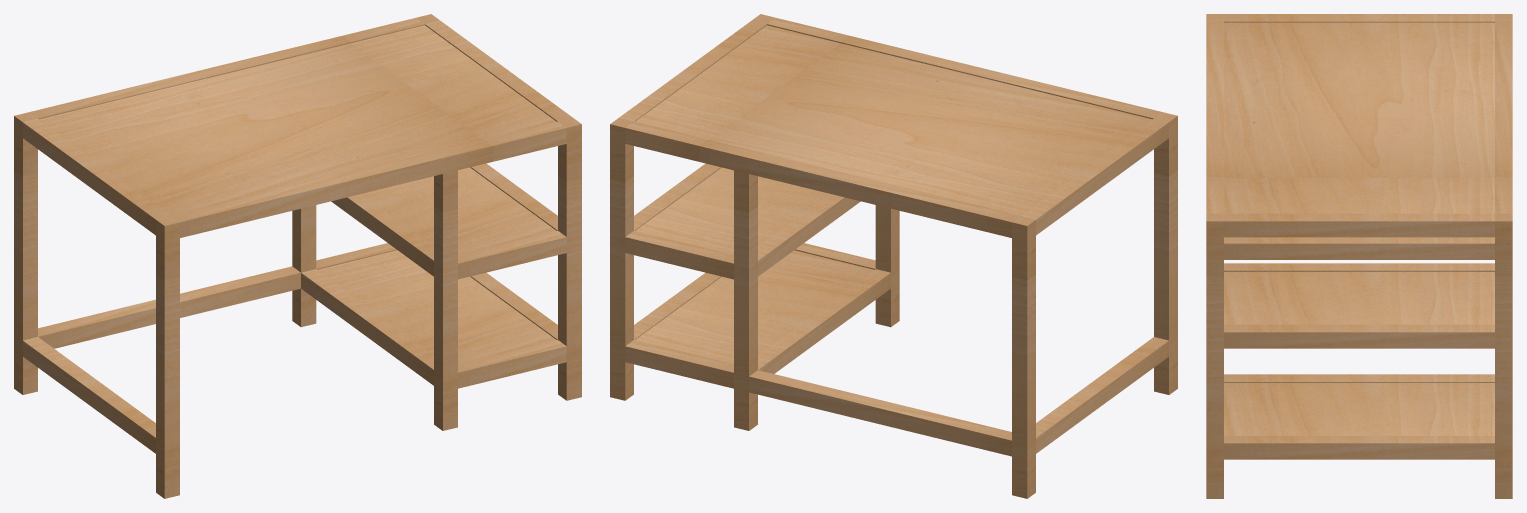
3 views of the same model, side by side, from view 1: azimuth 30°, elevation 25°; view 2: azimuth 150°, elevation 25°; view 3: azimuth 270°, elevation 25° (orthographic).
Parts seen in each view (by area): view 1: desk_top, desk_shelf (×2), desk_beam_x_f, desk_shelf_y_l (×2), desk_leg_f_l, desk_leg_f_r, desk_leg_s_f, desk_leg_b_l, desk_footrest_x, desk_shelf_x_f (×2), desk_beam_y_l, desk_footrest_y (+5 smaller); view 2: desk_top, desk_shelf (×2), desk_beam_x_b, desk_leg_b_l, desk_shelf_y_l (×2), desk_footrest_x, desk_leg_b_r, desk_leg_f_l, desk_leg_s_b, desk_shelf_x_b (×2), desk_beam_y_l, desk_footrest_y (+5 smaller); view 3: desk_top, desk_shelf (×2), desk_shelf_y_r (×2), desk_beam_y_r, desk_footrest_y, desk_leg_b_r, desk_leg_f_r, desk_shelf_y_l (×2), desk_beam_x_b, desk_beam_x_f, desk_beam_y_l.
Part boxes in pixels (x1,y1,x2,y2): desk_top: (39, 25, 556, 215); desk_shelf (×2): (318, 167, 556, 363); desk_beam_x_f: (171, 121, 566, 237); desk_shelf_y_l (×2): (301, 193, 433, 385); desk_leg_f_l: (156, 216, 179, 498); desk_leg_f_r: (558, 118, 581, 400); desk_leg_s_f: (434, 170, 457, 430); desk_leg_b_l: (14, 112, 37, 394); desk_footrest_x: (38, 266, 300, 348); desk_shelf_x_f (×2): (458, 230, 566, 388); desk_beam_y_l: (23, 118, 170, 235); desk_footrest_y: (23, 337, 155, 453); desk_top: (635, 25, 1152, 215); desk_shelf (×2): (635, 167, 873, 363); desk_beam_x_b: (625, 121, 1020, 237); desk_leg_b_l: (1012, 216, 1035, 498); desk_shelf_y_l (×2): (758, 193, 890, 373); desk_footrest_x: (749, 370, 1011, 456); desk_leg_b_r: (610, 118, 633, 400); desk_leg_f_l: (1154, 112, 1177, 394); desk_leg_s_b: (734, 170, 757, 430); desk_shelf_x_b (×2): (625, 230, 733, 388); desk_beam_y_l: (1021, 118, 1168, 235); desk_footrest_y: (1036, 337, 1168, 453); desk_top: (1224, 22, 1494, 213); desk_shelf (×2): (1224, 272, 1494, 435); desk_shelf_y_r (×2): (1224, 324, 1494, 459); desk_beam_y_r: (1224, 213, 1494, 237); desk_footrest_y: (1224, 237, 1494, 259); desk_leg_b_r: (1495, 213, 1512, 498); desk_leg_f_r: (1206, 213, 1223, 498); desk_shelf_y_l (×2): (1224, 263, 1494, 382); desk_beam_x_b: (1495, 21, 1512, 213); desk_beam_x_f: (1206, 21, 1223, 213); desk_beam_y_l: (1224, 14, 1494, 22).
Bounding box in the file's own units: 48 × 30 × 30.
1 material, 1 textured.
